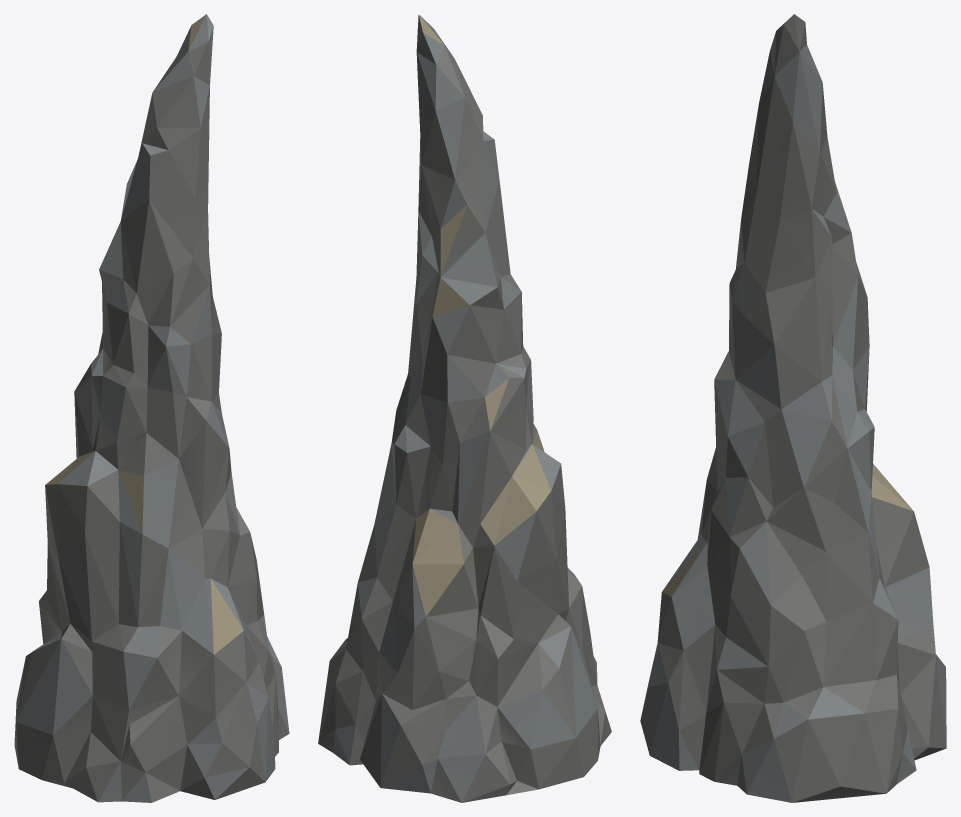
The model's file is stalagmite.glb.
3 views of the same model, side by side, from view 1: azimuth 30°, elevation 25°; view 2: azimuth 150°, elevation 25°; view 3: azimuth 270°, elevation 25° (orthographic). The views are drawn at different scales.
Parts seen in each view (by area): view 1: Mesh_0; view 2: Mesh_0; view 3: Mesh_0.
Boxes of the visible parts, x1,y1,x2,y2 form: Mesh_0: (14, 14, 289, 802); Mesh_0: (318, 14, 611, 802); Mesh_0: (640, 14, 946, 802).
Bounding box in the file's own units: 0.7 × 1.9 × 0.7.
